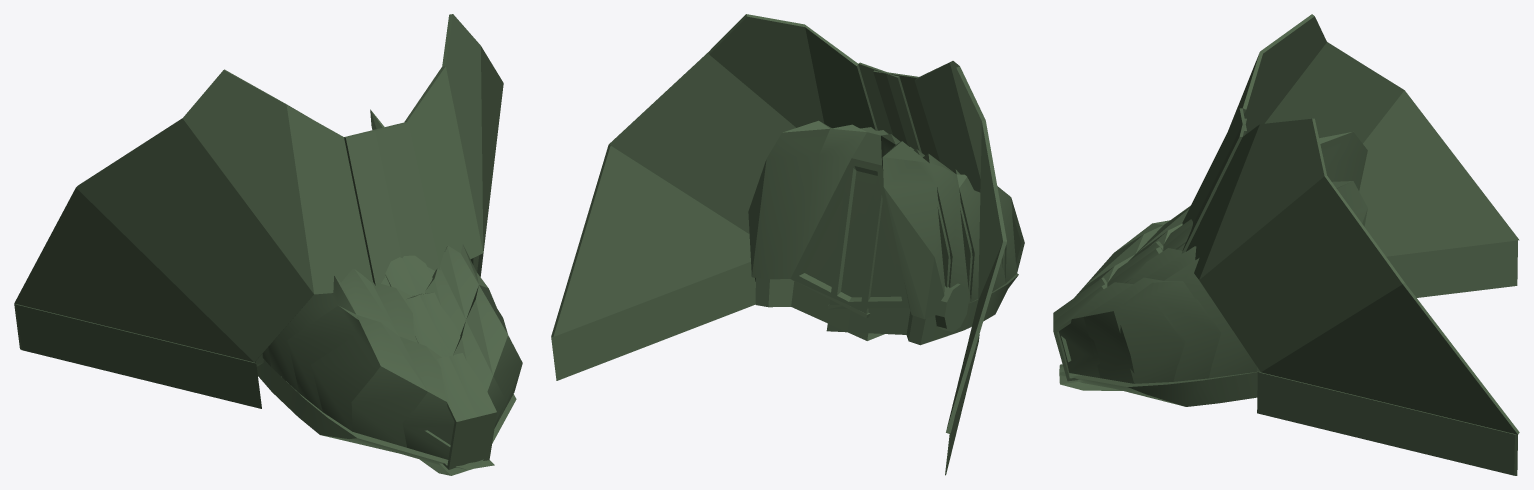
The model's file is Eger.fbx.
3 renders of one model, left to right at view 1: azimuth 30°, elevation 25°; view 2: azimuth 150°, elevation 25°; view 3: azimuth 270°, elevation 25°, orthographic. The views are drawn at different scales.
Parts seen in each view (by area): view 1: Plane.006, Cube.017, Plane.007, Cube.019; view 2: Plane.006, Cube.017, Plane.007, Cube.018, Cube.019, Circle.002; view 3: Plane.006, Cube.017, Plane.007, Cube.019.
Boxes of the visible parts, box(x1,y1,x2,y2) form: Plane.006: box(14, 14, 503, 362); Cube.017: box(262, 109, 522, 469); Plane.007: box(14, 122, 440, 408); Cube.019: box(257, 359, 516, 475); Plane.006: box(551, 14, 1006, 433); Cube.017: box(748, 120, 1024, 319); Plane.007: box(551, 62, 979, 475); Cube.018: box(790, 158, 909, 315); Cube.019: box(755, 273, 1018, 345); Circle.002: box(755, 277, 969, 331); Plane.006: box(1186, 14, 1519, 434); Cube.017: box(1053, 131, 1367, 383); Plane.007: box(1181, 108, 1517, 475); Cube.019: box(1059, 364, 1260, 406).
Bounding box in the file's own units: 114 × 86.03 × 115.
